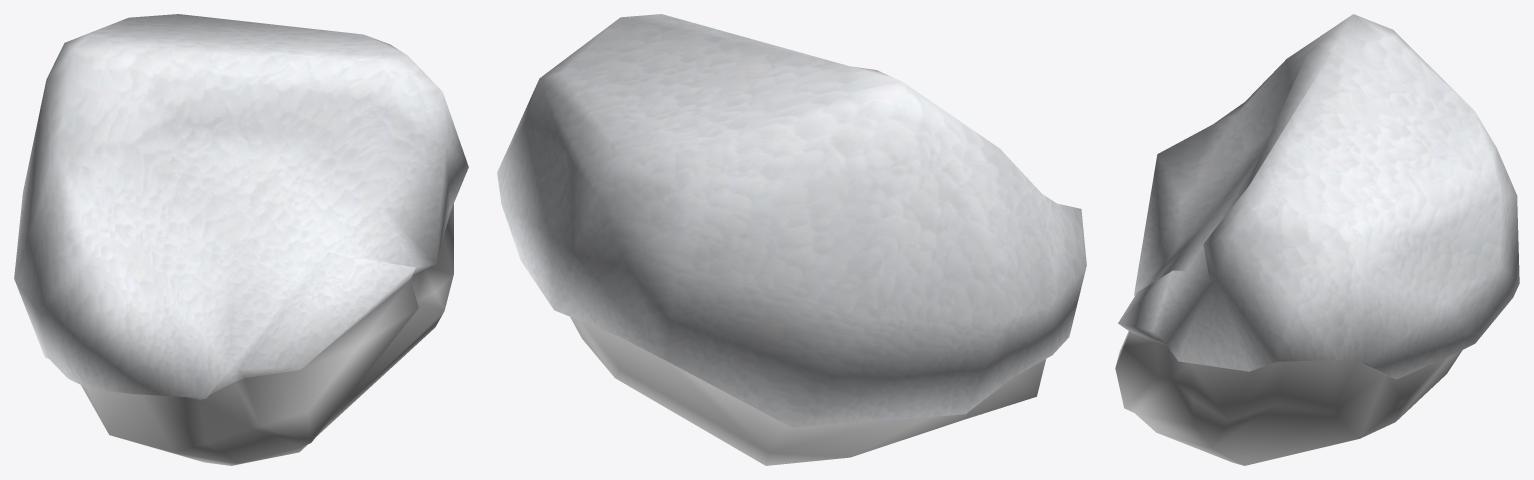
The model's file is rock_s04b.fbx.
3 renders of one model, left to right at view 1: azimuth 30°, elevation 25°; view 2: azimuth 150°, elevation 25°; view 3: azimuth 270°, elevation 25°, orthographic. The views are drawn at different scales.
Parts seen in each view (by area): view 1: rock_s04b; view 2: rock_s04b; view 3: rock_s04b.
Part boxes in pixels (x1=…): rock_s04b: x1=14, y1=14, x2=468, y2=465; rock_s04b: x1=497, y1=14, x2=1086, y2=465; rock_s04b: x1=1115, y1=14, x2=1519, y2=465.
Size of the model in its own units: 245 by 195 by 194.
